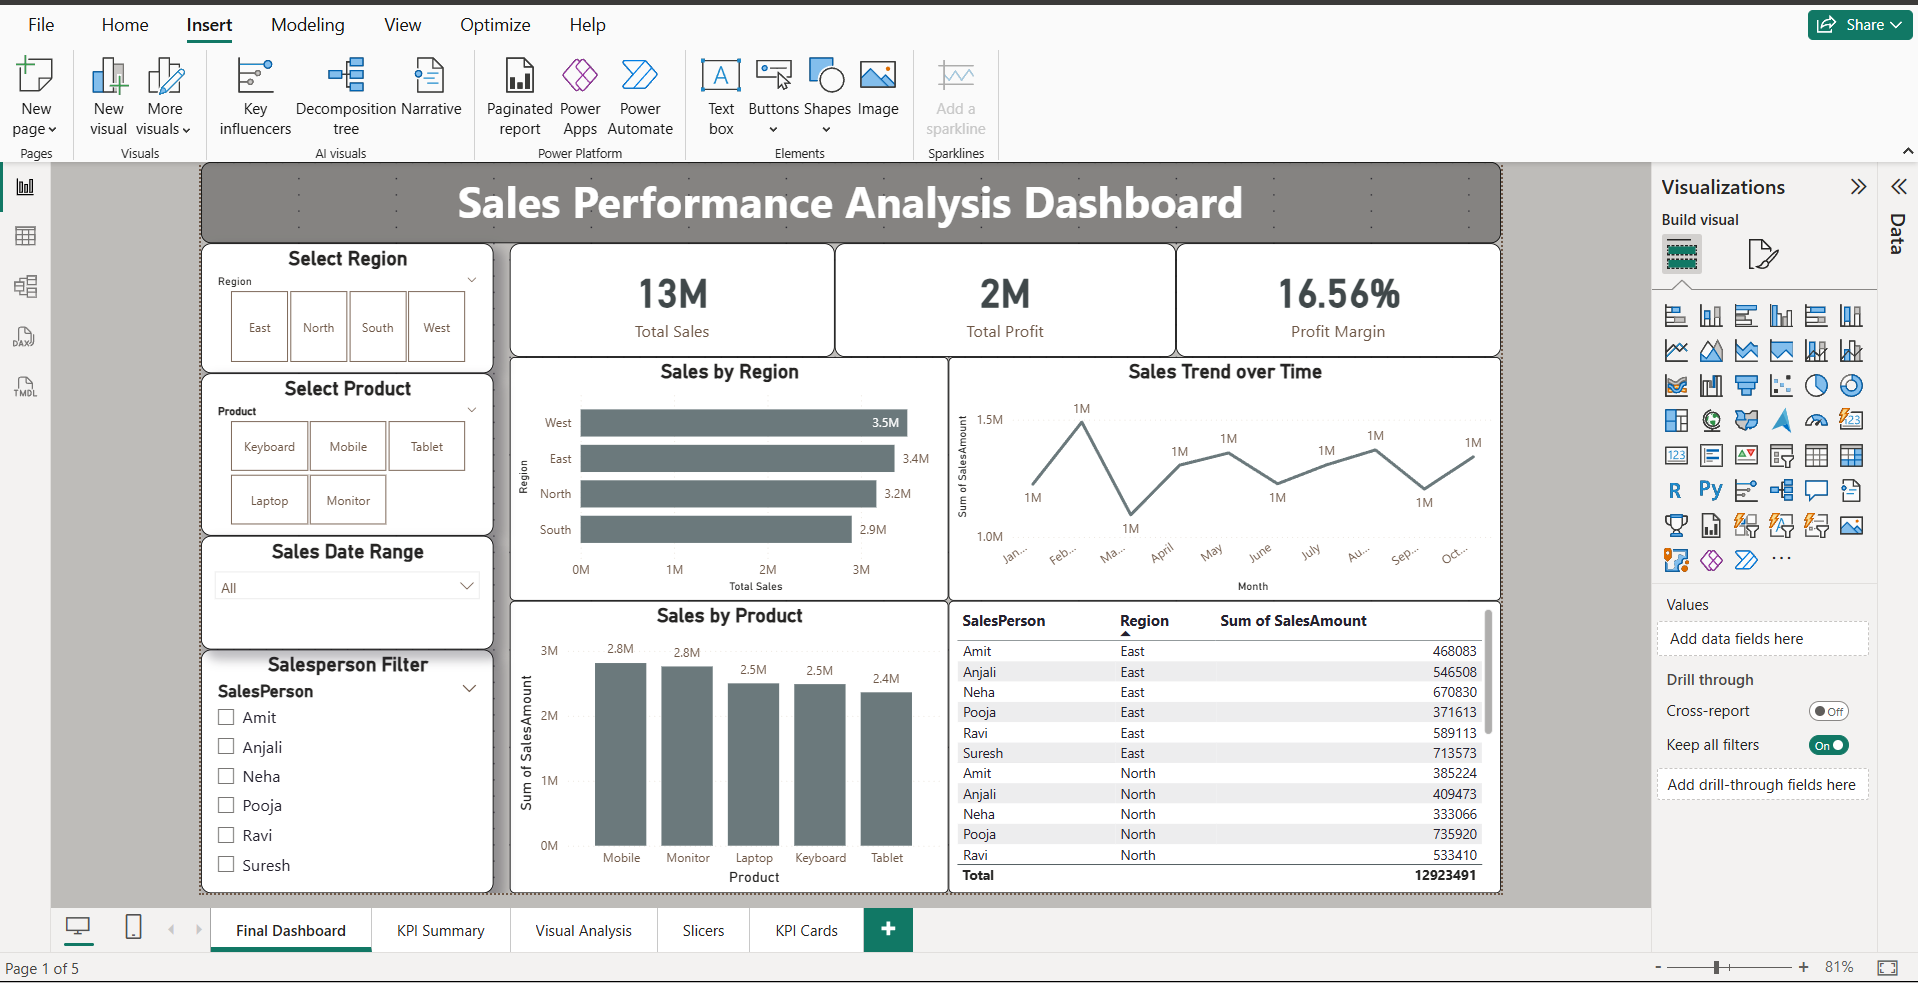

The page's visual inventory and layout, read from the dashboard file:
{"tool":"powerbi","page":{"name":"Final Dashboard","canvas":[1280,720],"ordinal":0},"visuals":[{"type":"barChart","title":"Sales by Region","fields":{"Category":["Sales_Data.Region"],"Y":["Sum(Sales_Data.SalesAmount)"]},"box":[304,192,432,240],"z":0},{"type":"clusteredColumnChart","title":"Sales by Product","fields":{"Category":["Sales_Data.Product"],"Y":["Sum(Sales_Data.SalesAmount)"]},"box":[304,432,432,288],"z":1000},{"type":"lineChart","title":"Sales Trend over Time","fields":{"Category":["Sales_Data.OrderDate.Variation.Date Hierarchy.Month","Sales_Data.OrderDate.Variation.Date Hierarchy.Day"],"Y":["Sum(Sales_Data.SalesAmount)"]},"box":[736,192,544,240],"z":2000},{"type":"tableEx","fields":{"Values":["Sales_Data.SalesPerson","Sales_Data.Region","Sum(Sales_Data.SalesAmount)"]},"box":[736,432,544,288],"z":3000},{"type":"slicer","title":"Select Region","fields":{"Values":["Sales_Data.Region"]},"box":[0,80,288,128],"z":4000},{"type":"slicer","title":"Select Product","fields":{"Values":["Sales_Data.Product"]},"box":[0,208,288,160],"z":5000},{"type":"slicer","title":"Salesperson Filter","fields":{"Values":["Sales_Data.SalesPerson"]},"box":[0,480,288,240],"z":6000},{"type":"slicer","title":"Sales Date Range","fields":{"Values":["Sales_Data.OrderDate.Variation.Date Hierarchy.Quarter","Sales_Data.OrderDate.Variation.Date Hierarchy.Month"]},"box":[0,368,288,112],"z":7000},{"type":"card","fields":{"Values":["Sales_Data.Total Sales"]},"box":[304,80,320,112],"z":8000},{"type":"card","fields":{"Values":["Sales_Data.Total Profit"]},"box":[624,80,336,112],"z":9000},{"type":"card","fields":{"Values":["Sales_Data.Profit Margin"]},"box":[960,80,320,112],"z":10000},{"type":"textbox","box":[0,0,1280,80],"z":11000}]}

Visuals, with their boxes on the page's 1280x720 design canvas (x1, y1, x2, y2). These are canvas units, not pixel positions in the 1918x983 screenshot, which may show the page scaled, cropped or inside an application window:
"Sales by Region" barChart: x1=304 y1=192 x2=736 y2=432
"Sales by Product" clusteredColumnChart: x1=304 y1=432 x2=736 y2=720
"Sales Trend over Time" lineChart: x1=736 y1=192 x2=1280 y2=432
tableEx - Sales_Data.SalesPerson x Sales_Data.Region: x1=736 y1=432 x2=1280 y2=720
"Select Region" slicer: x1=0 y1=80 x2=288 y2=208
"Select Product" slicer: x1=0 y1=208 x2=288 y2=368
"Salesperson Filter" slicer: x1=0 y1=480 x2=288 y2=720
"Sales Date Range" slicer: x1=0 y1=368 x2=288 y2=480
card - Sales_Data.Total Sales: x1=304 y1=80 x2=624 y2=192
card - Sales_Data.Total Profit: x1=624 y1=80 x2=960 y2=192
card - Sales_Data.Profit Margin: x1=960 y1=80 x2=1280 y2=192
textbox: x1=0 y1=0 x2=1280 y2=80
